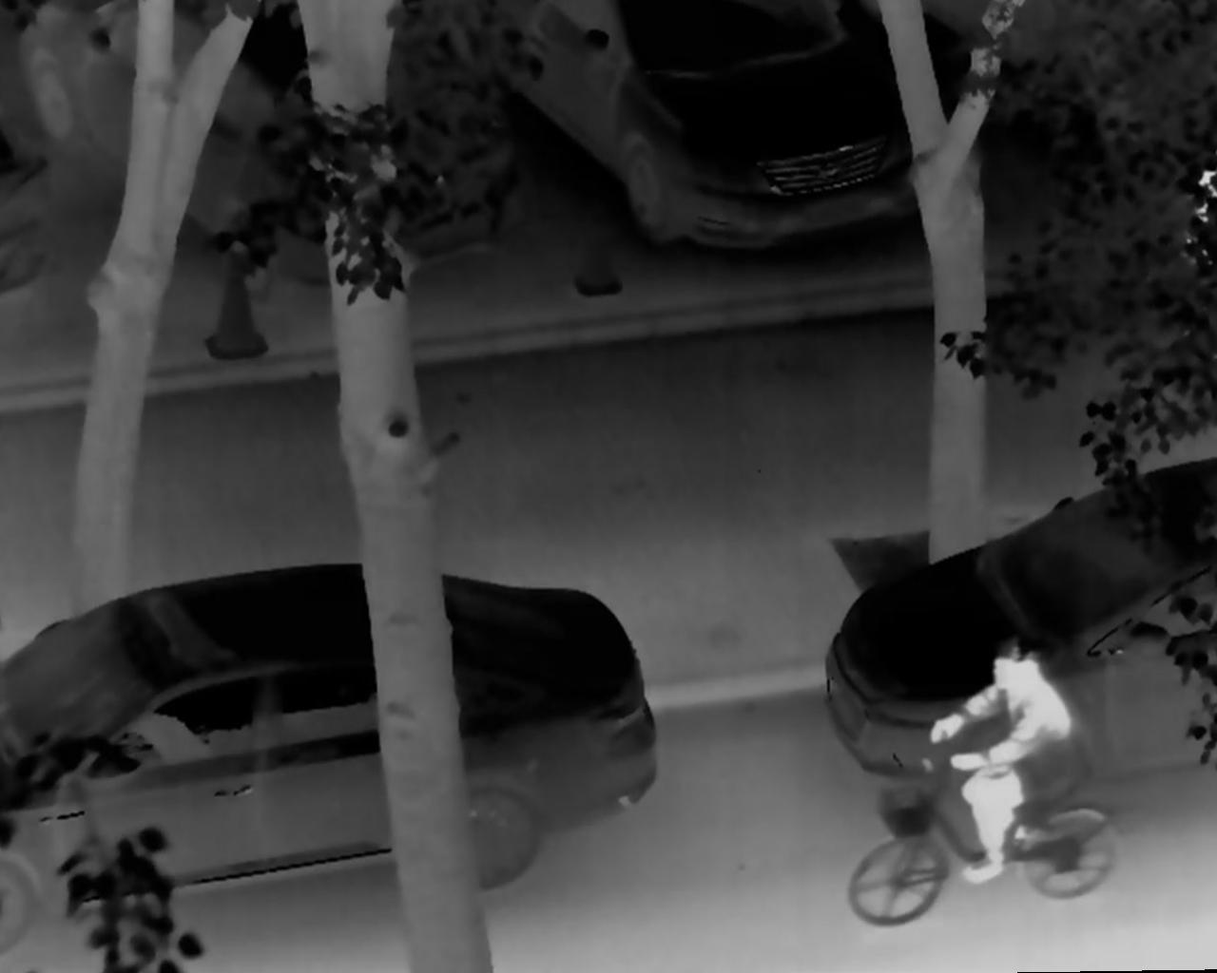person: (928, 643, 1073, 889), (1167, 149, 1217, 270)
